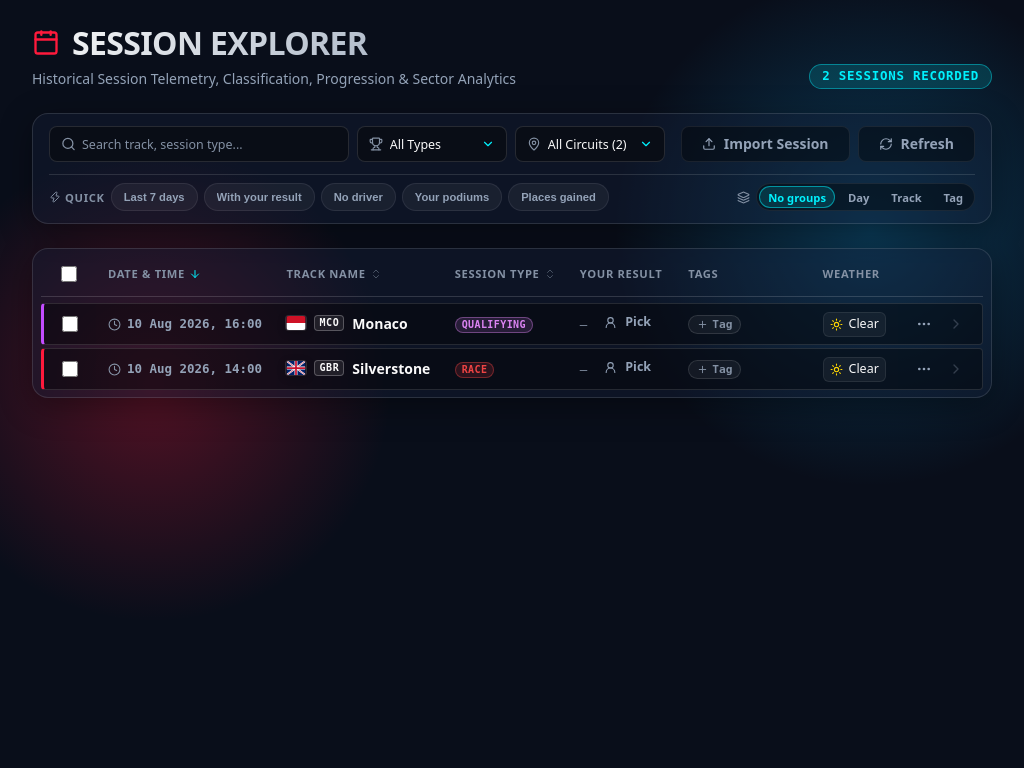
Test: SessionHistory Component › shows confirmation modal and deletes a session when confirmed
This screenshot has width=1024, height=768.
# Delete Silverstone (#1) from its "⋯" menu
Click the button named "More actions for Silverstone, session #1": (924, 369) [910,355,938,383]
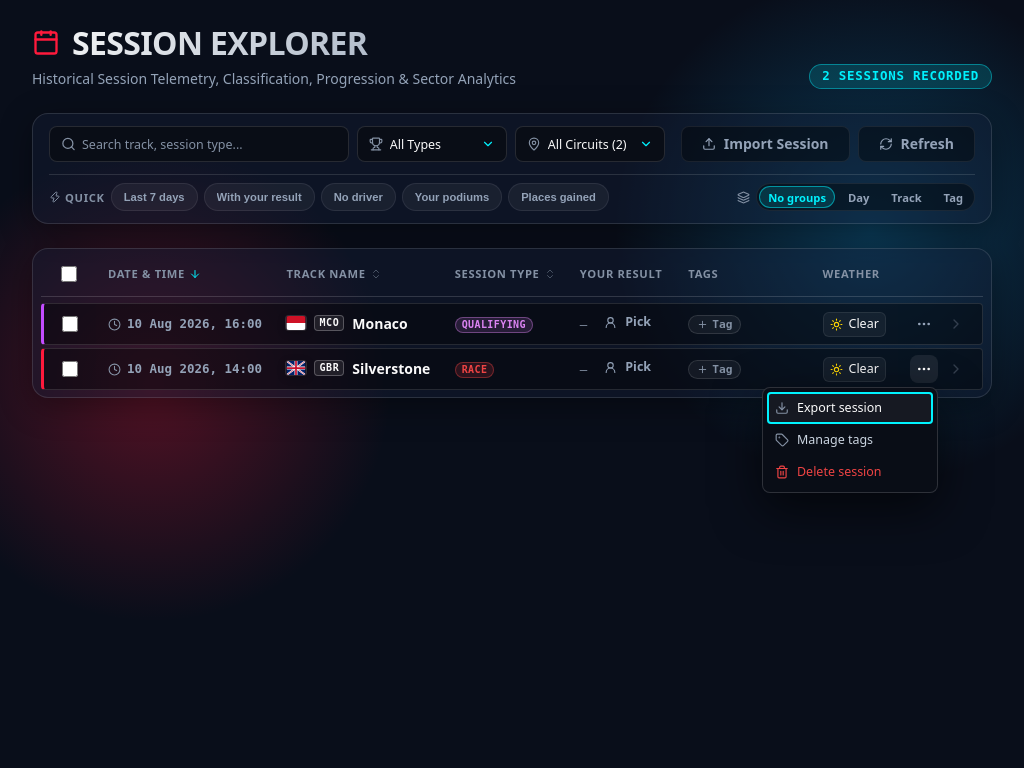
Click the menu item "Delete session": (850, 472) [767,456,933,488]
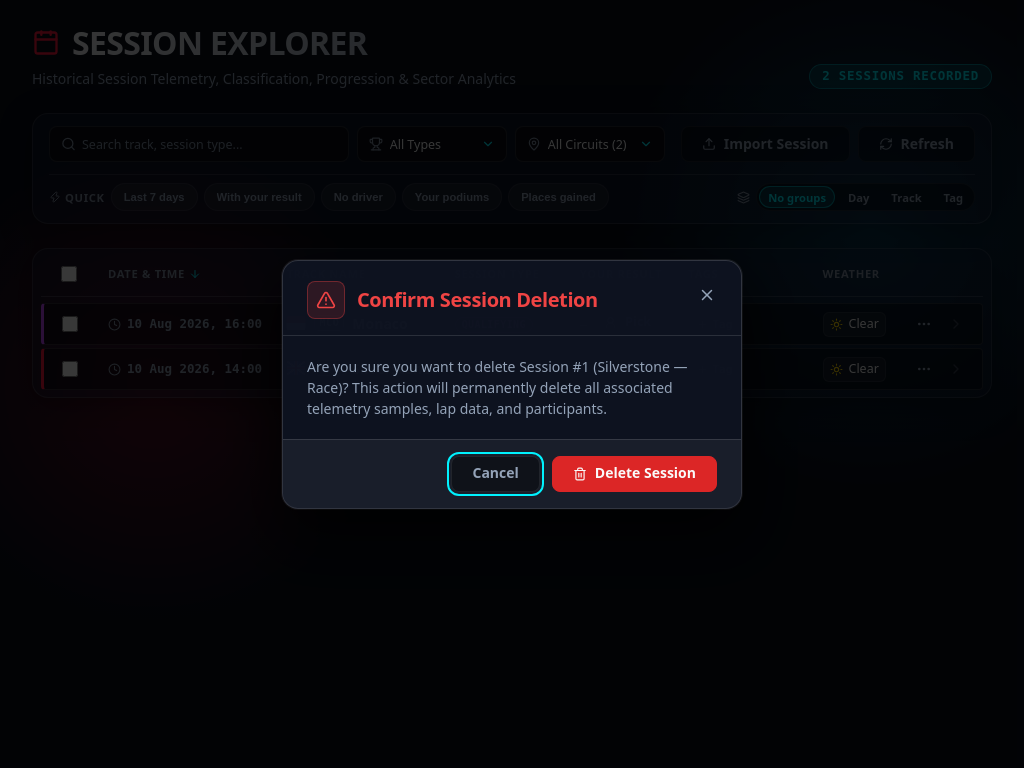
Expected: the heading "Confirm Session Deletion" is shown, [357,288,598,312]
# Click Delete Session inside confirmation modal
Click the button "Delete Session": (634, 474) [552,456,717,492]
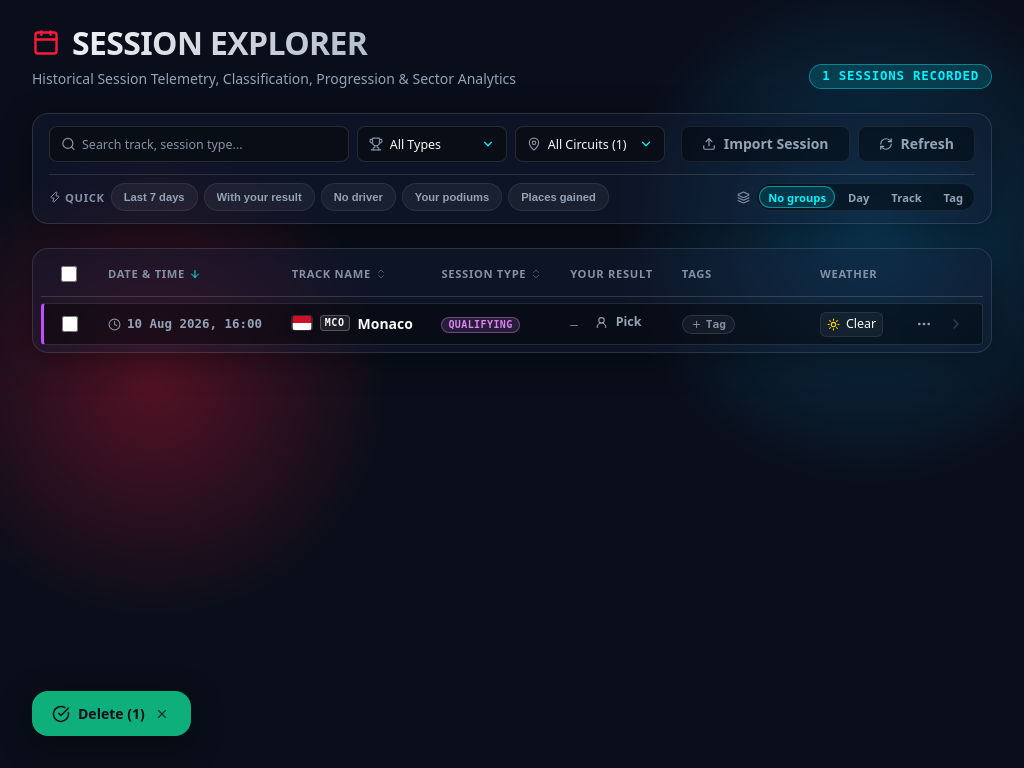
Expected: the text "Silverstone" is gone
